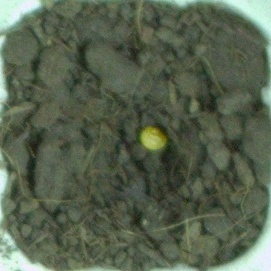pepper seed: (55, 48, 225, 200)
